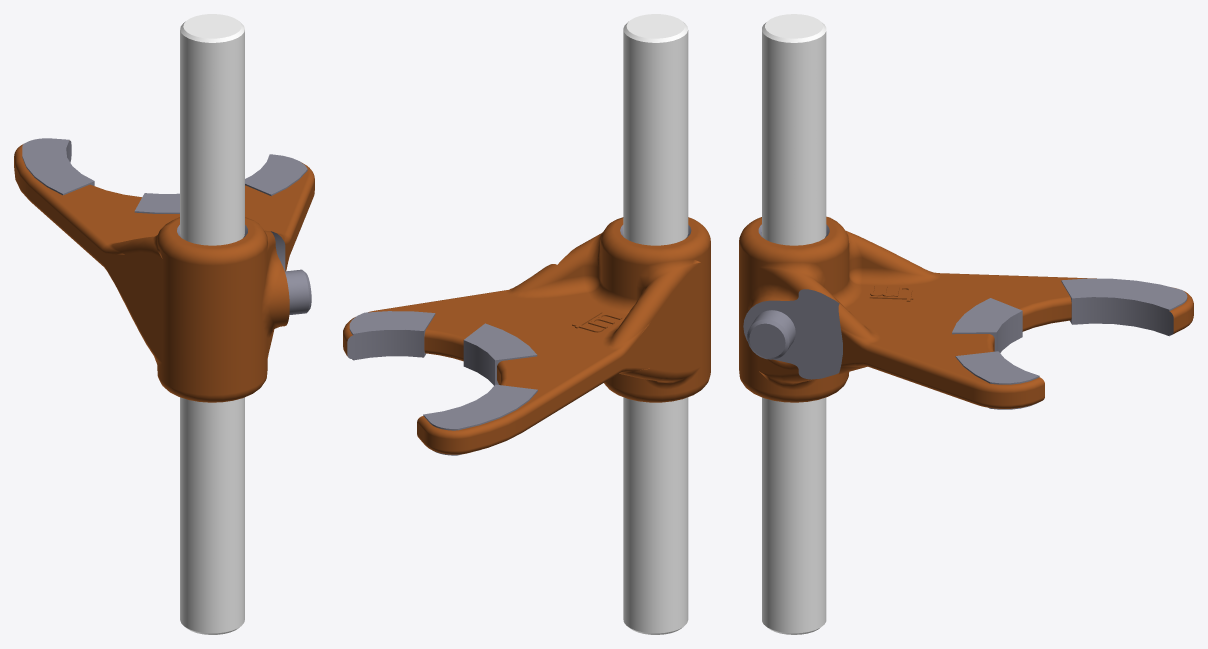
File: fork_mainshaft.fbx
The picture shows the model from 3 angles, left to right: view 1: azimuth 30°, elevation 25°; view 2: azimuth 150°, elevation 25°; view 3: azimuth 270°, elevation 25°; orthographic projection.
Visible parts, largest first — view 1: Fork, mainshaft; view 2: Fork, mainshaft; view 3: Fork, mainshaft.
Boxes of the visible parts, x1=… form: Fork, mainshaft: x1=14, y1=14, x2=314, y2=634; Fork, mainshaft: x1=343, y1=14, x2=710, y2=634; Fork, mainshaft: x1=739, y1=14, x2=1193, y2=634.
Bounding box in the file's own units: 4.42 × 10.13 × 7.
